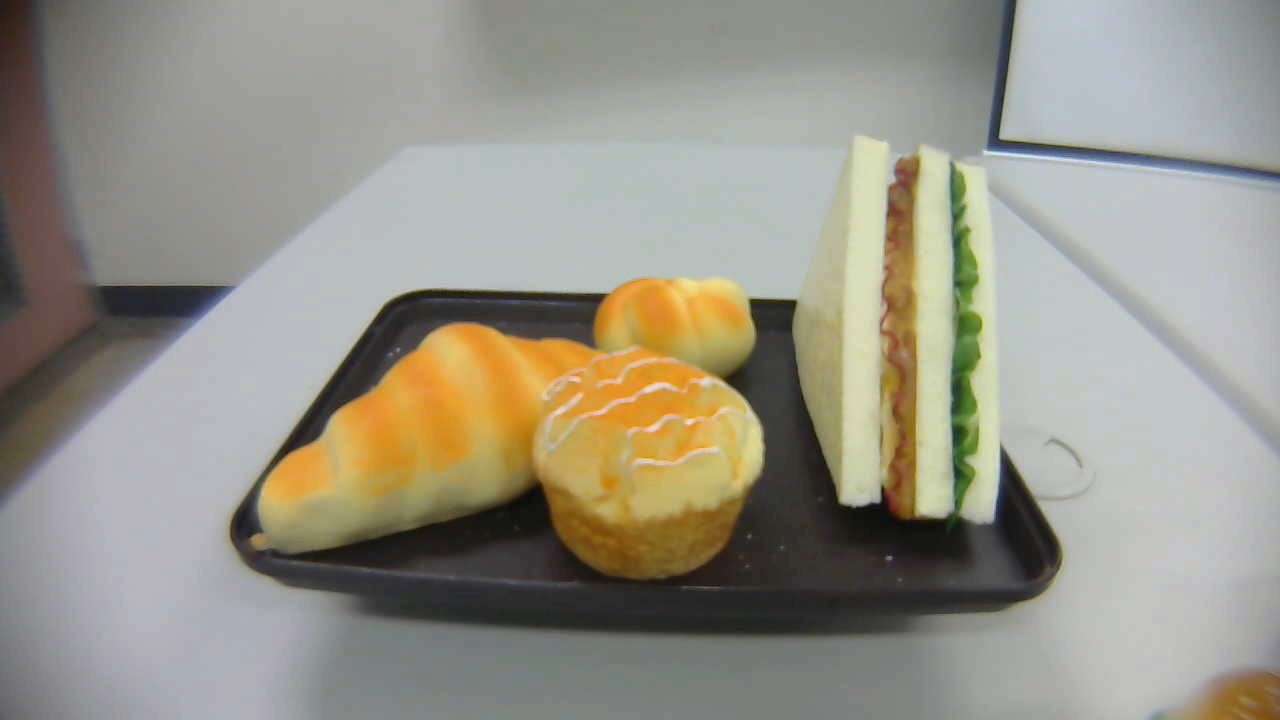croissant: (254, 319, 611, 564)
cupcake: (536, 344, 768, 582)
sandwich: (792, 136, 1000, 524)
twist bread: (593, 276, 757, 379)
